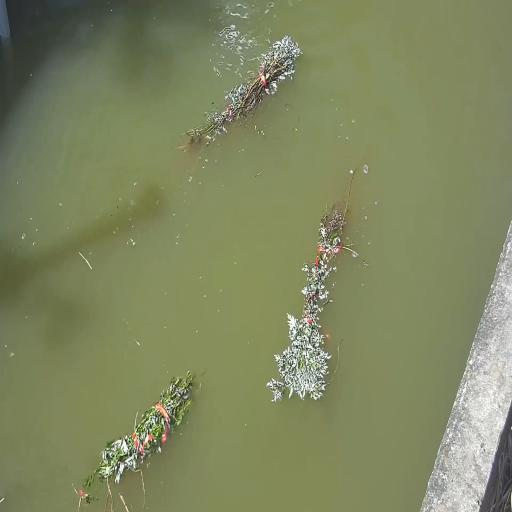twig: (267, 163, 365, 402), (184, 35, 302, 145), (84, 372, 194, 486), (106, 467, 115, 511)
